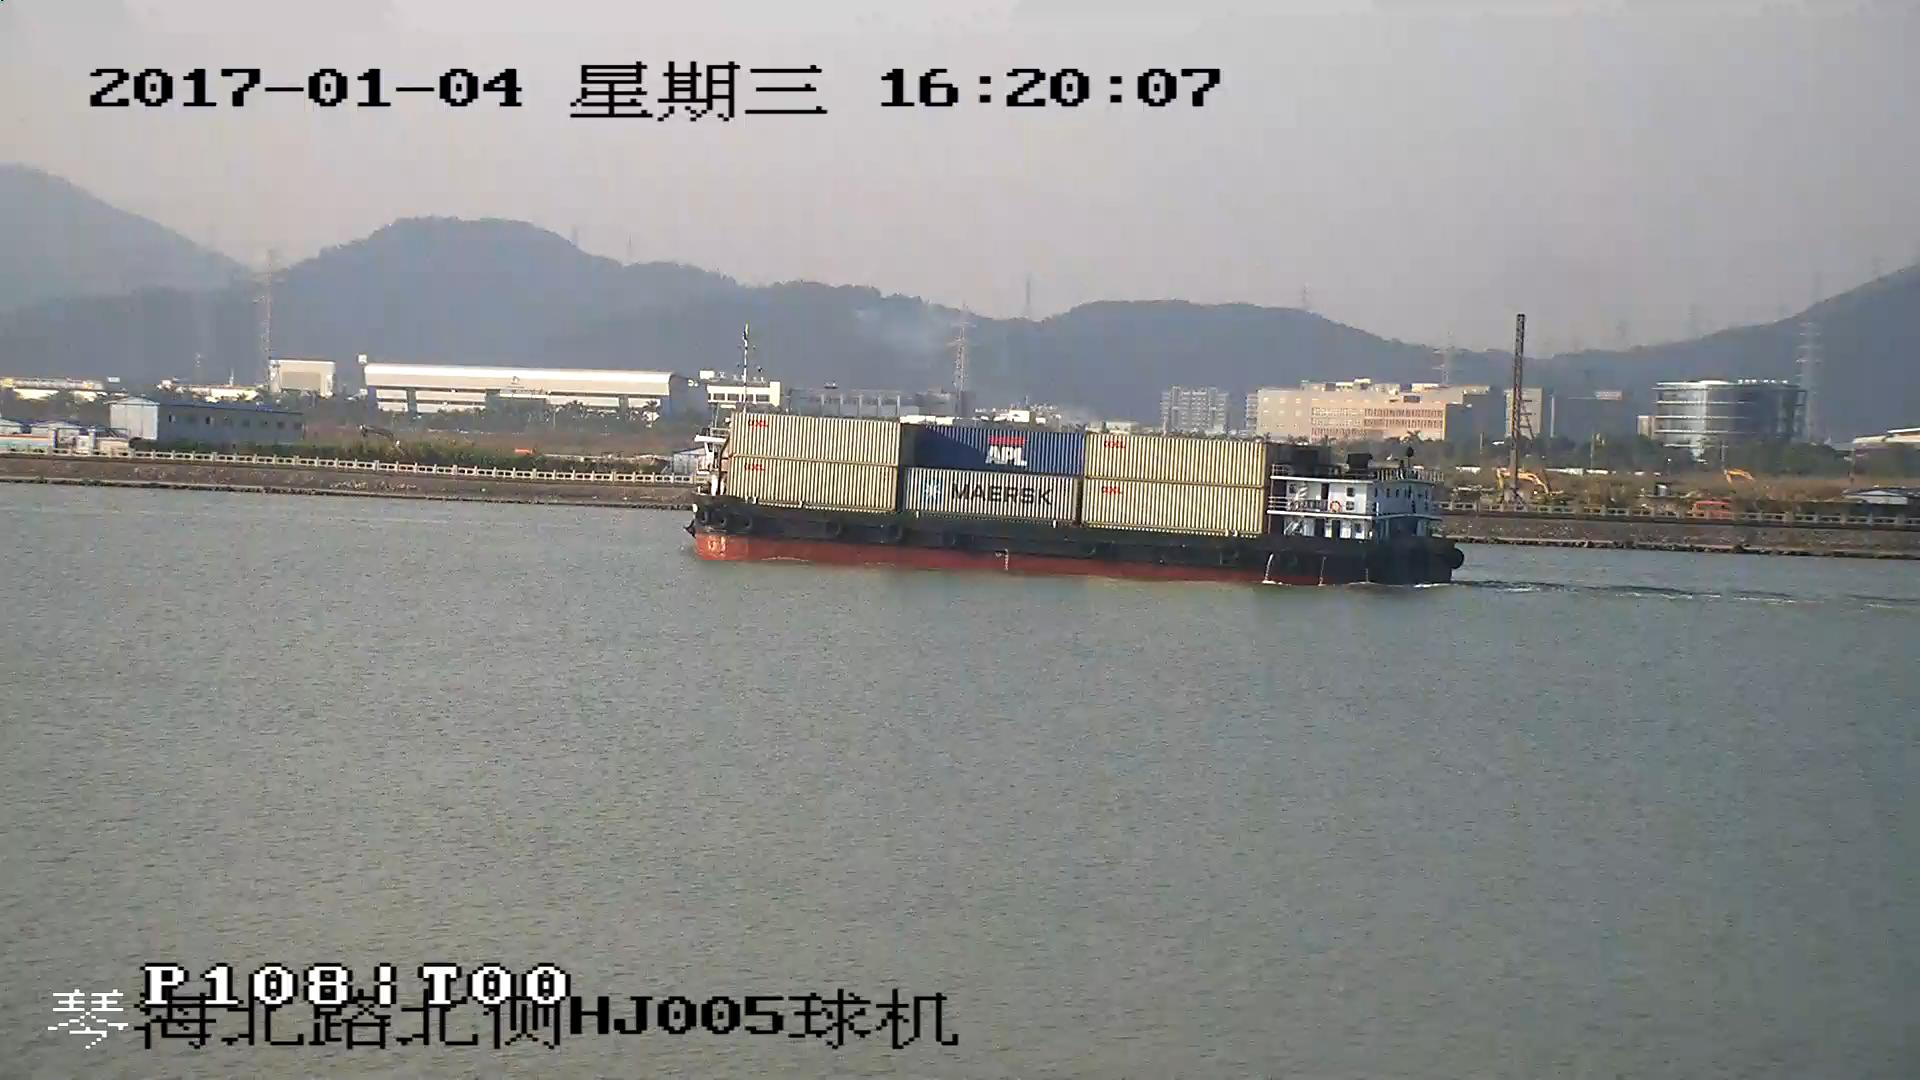container ship: (687, 412, 1465, 589)
